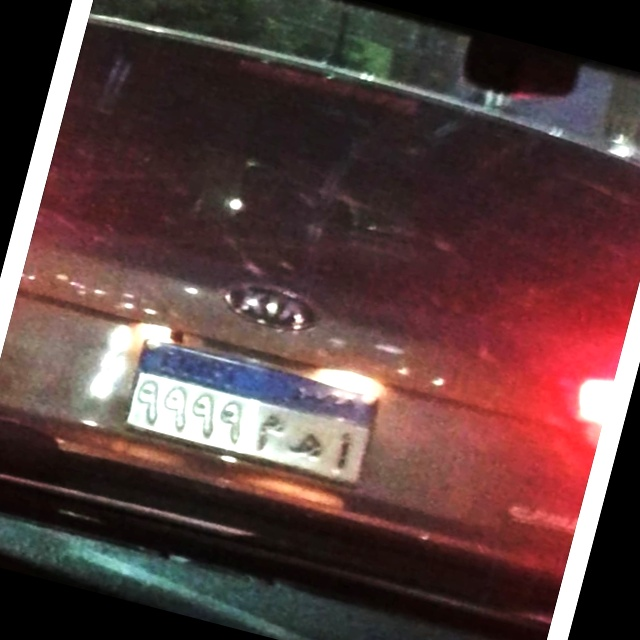License Plate: (116, 332, 387, 491)
